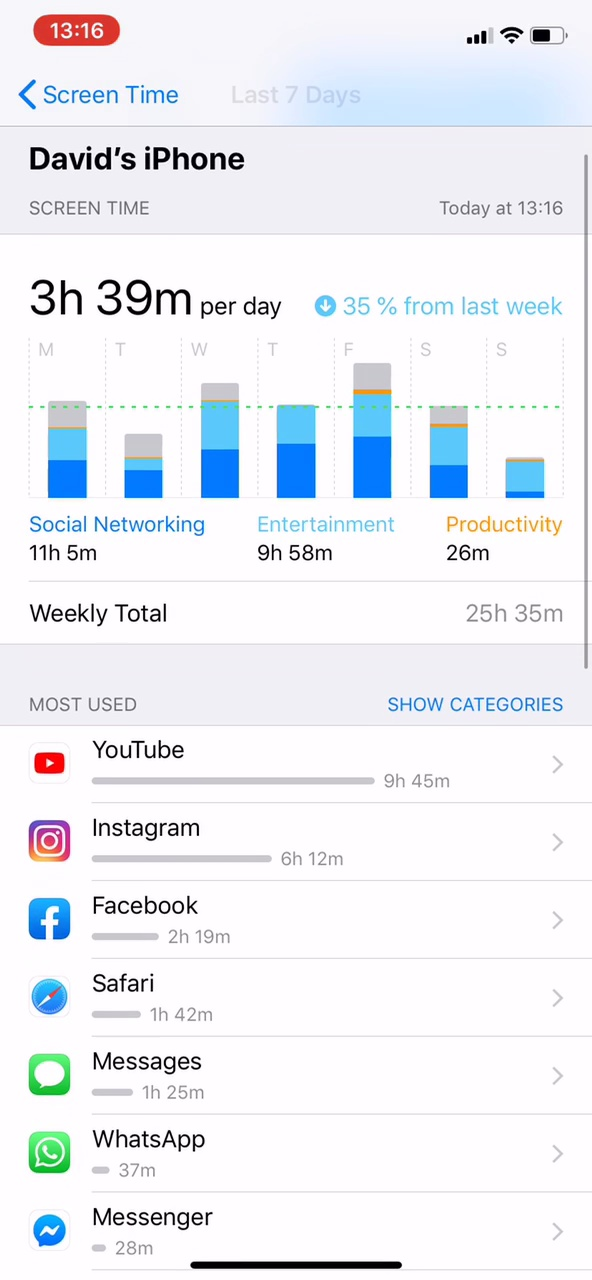use_over: (18, 514, 570, 632)
